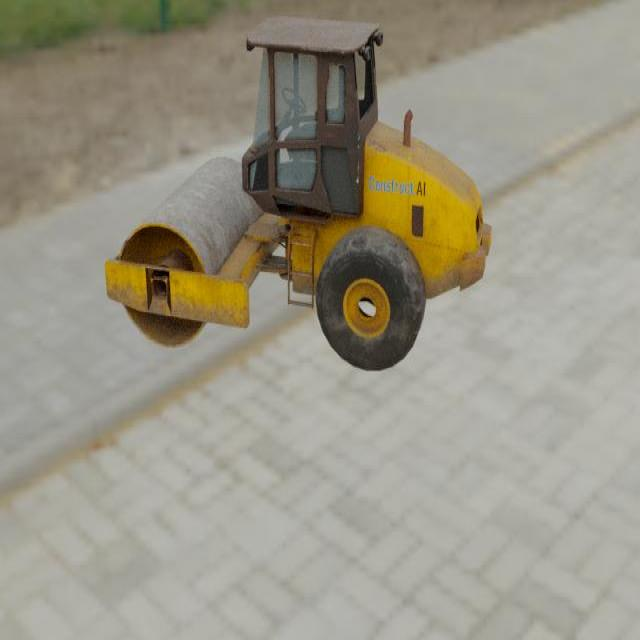Roller: (104, 16, 492, 371)
